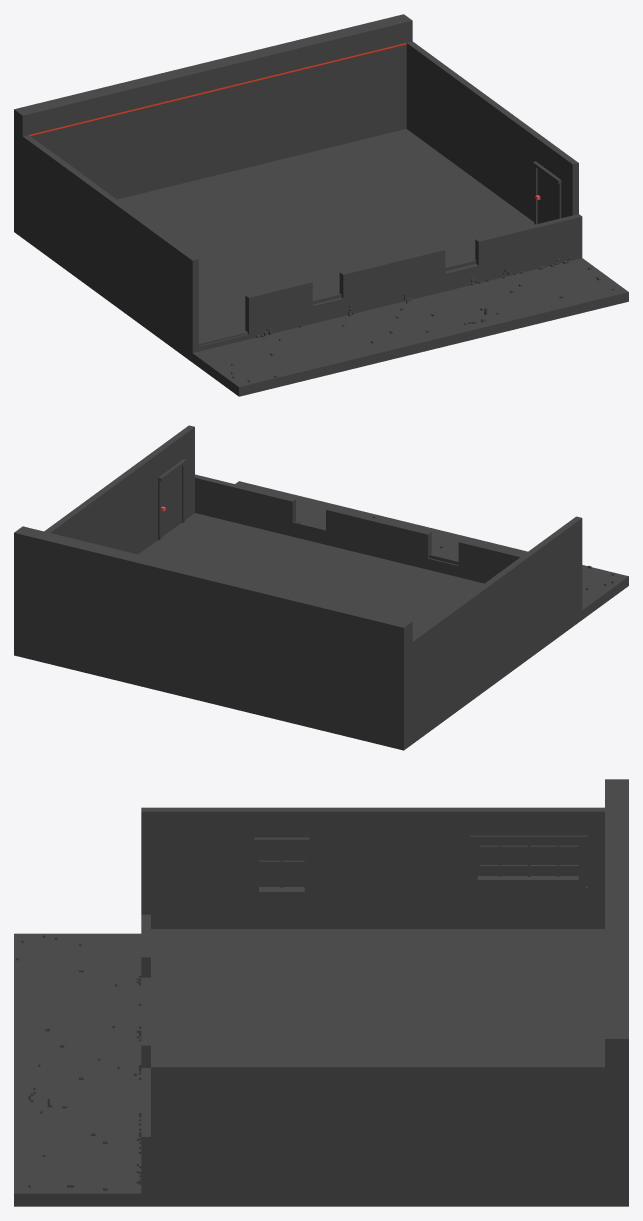
Rendered from Apartment_256.vox.obj.
3 renders of one model, top to bottom at view 1: azimuth 30°, elevation 25°; view 2: azimuth 150°, elevation 25°; view 3: azimuth 270°, elevation 25°, orthographic. The views are drawn at different scales.
Size of the model in its own units: 25.6 by 7.7 by 25.6.
Materials: 1 (1 with a texture image).
